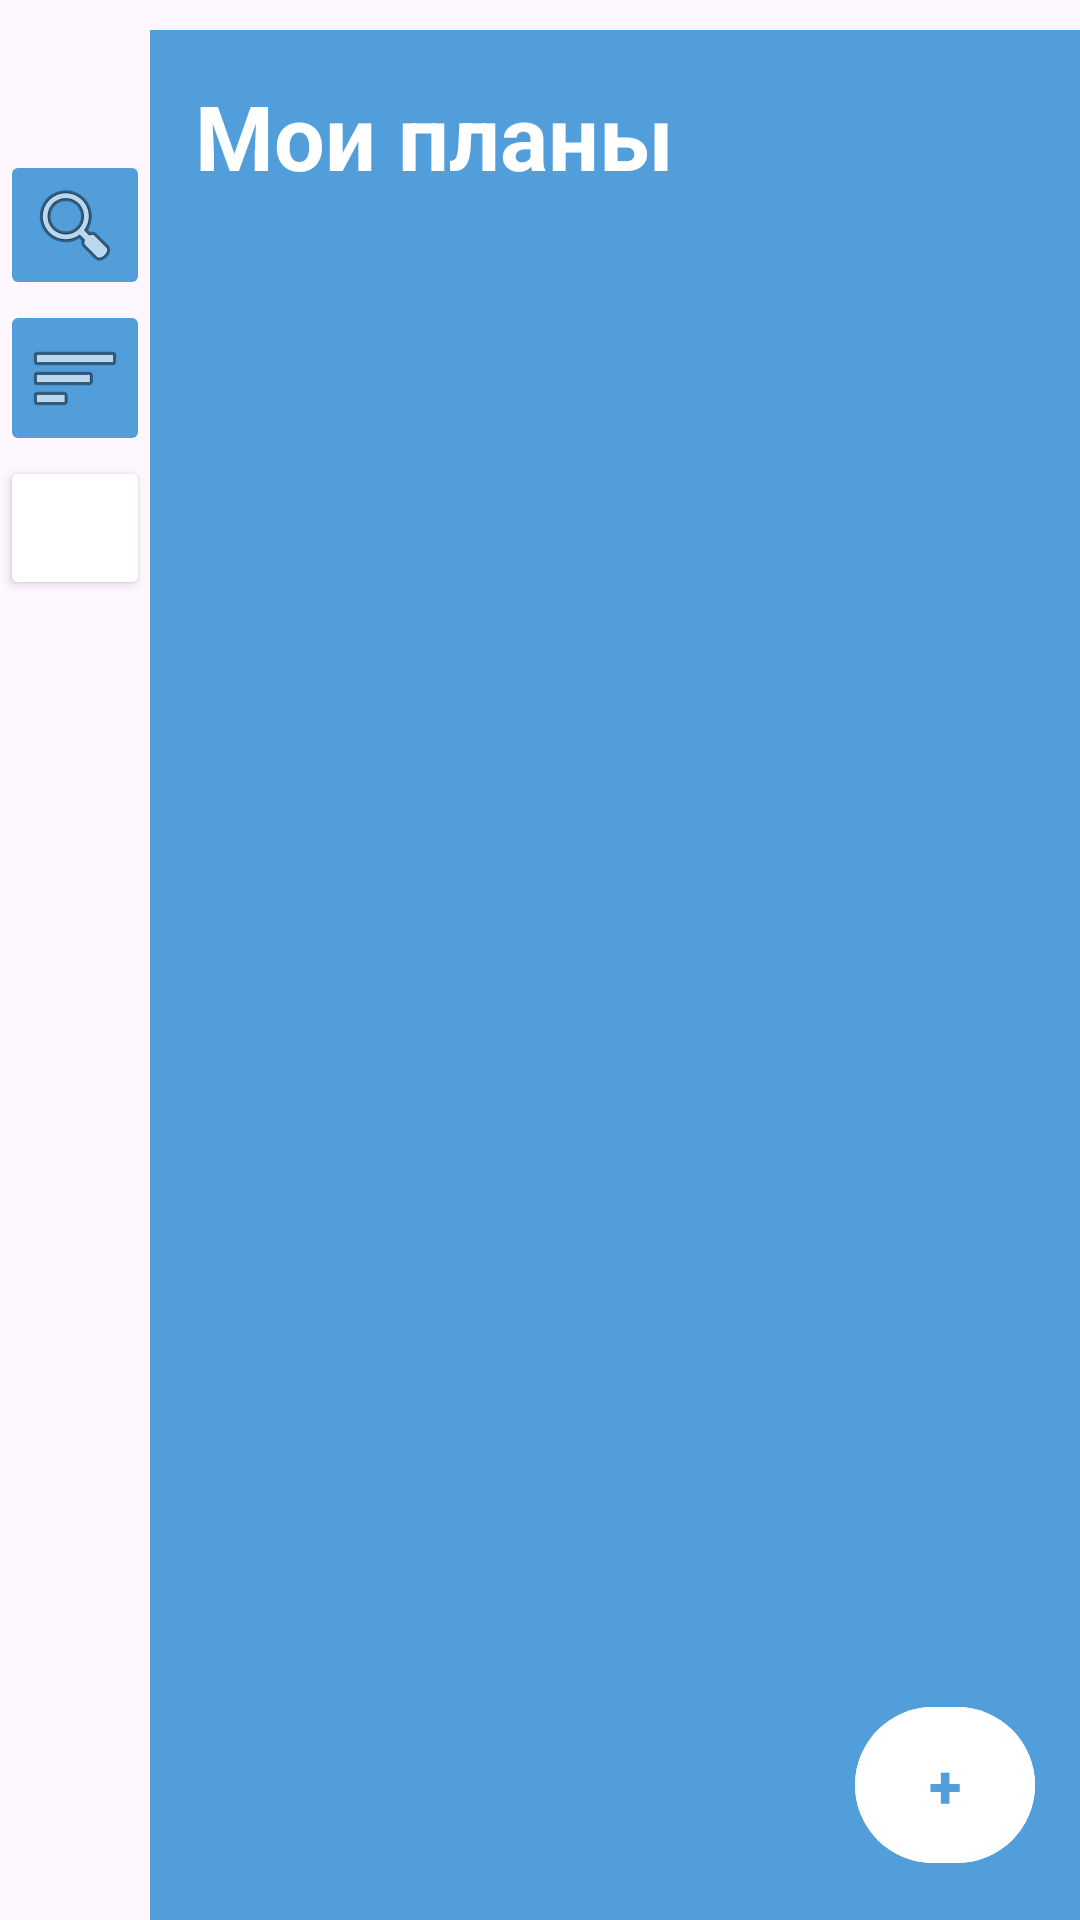

Icon bounding boxes for this 1080×1920 phone screenshot, format (left=x1, top=y1, right=x2, bottom=y2):
search: (left=12, top=168, right=138, bottom=282)
sort by size: (left=12, top=318, right=138, bottom=438)
